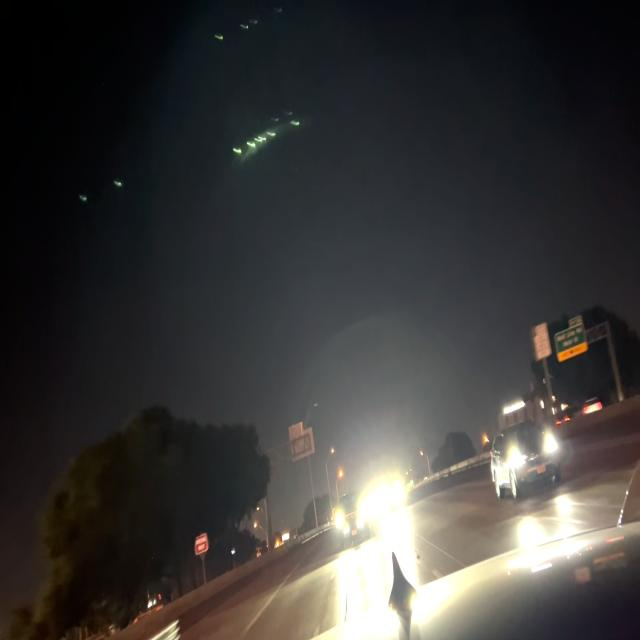back-of-sign: (289, 421, 316, 463)
